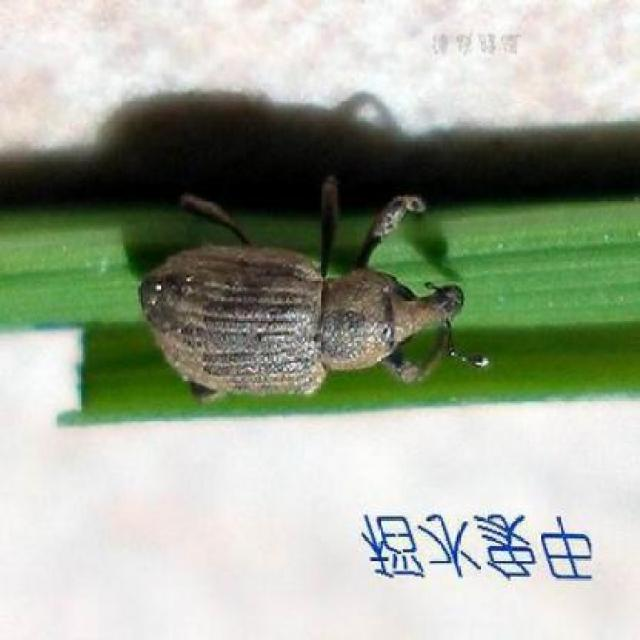rice-bug: (143, 186, 468, 411)
